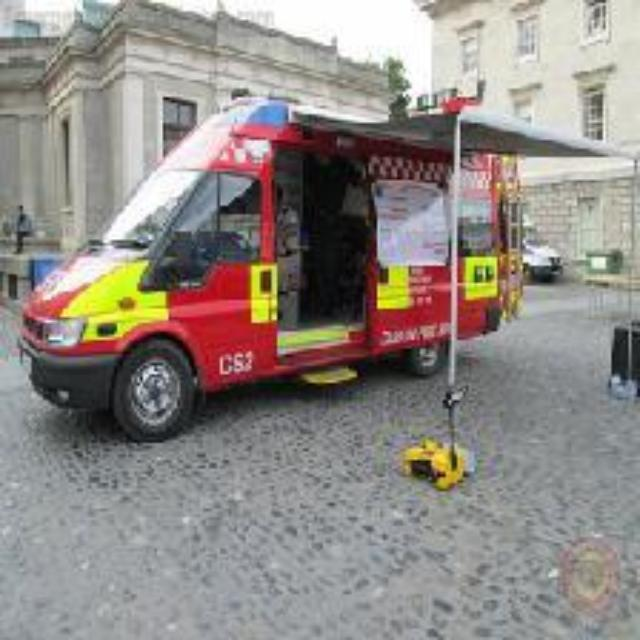emergency: (34, 88, 560, 458)
